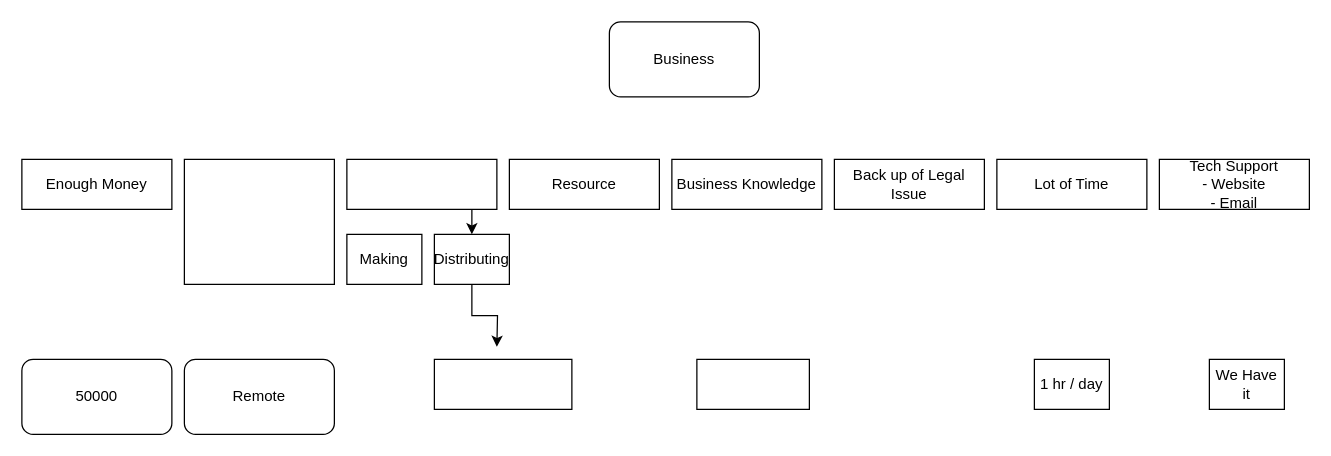
The diagram is 1331 pixels wide and 456 high, and some of its shapes have lost their labels. Here are the shapes that lost their labels. From the top down, the centre of each, then its label:
At point 421,183: "Product Service".
At point 258,221: "Place - Office - Shop - Manufacture - Online - Onsight".
At point 502,383: "Life Insurance : 12 Health Ins: 2".
At point 752,383: "HGI Expert Training".
